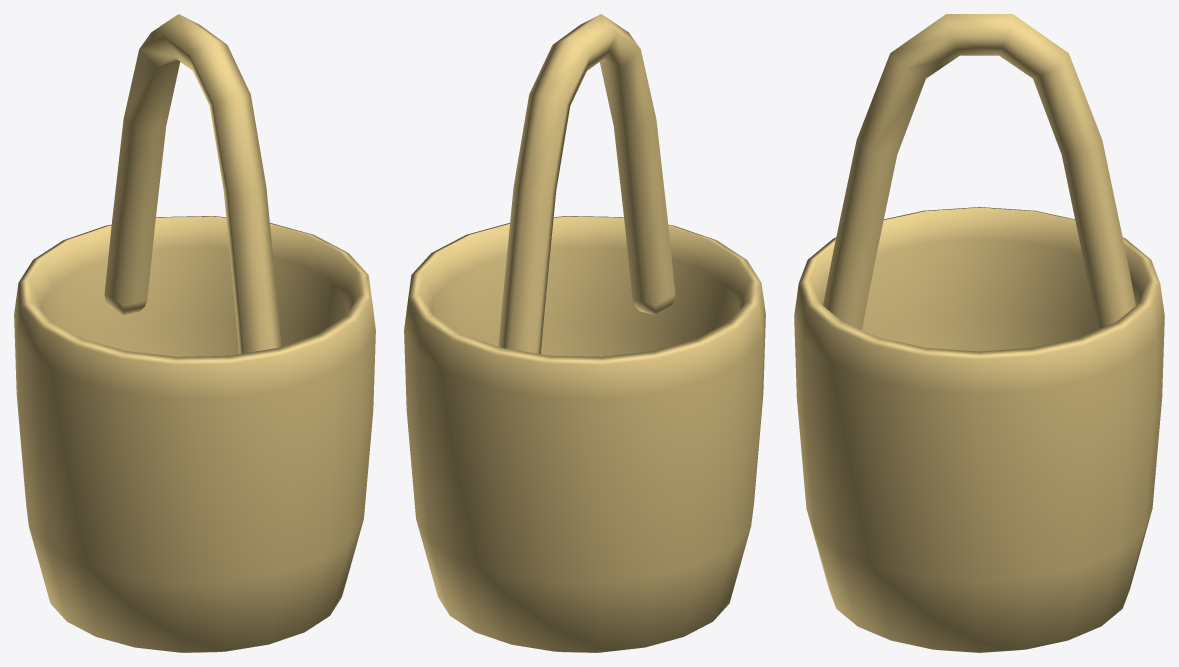
The model's file is basket_bag.glb.
3 renders of one model, left to right at view 1: azimuth 30°, elevation 25°; view 2: azimuth 150°, elevation 25°; view 3: azimuth 270°, elevation 25°, orthographic.
Visible parts, largest first — view 1: basket_bag_ArmR; view 2: basket_bag_ArmR; view 3: basket_bag_ArmR.
Boxes of the visible parts, bbox=[...] form: basket_bag_ArmR: bbox=[14, 14, 375, 652]; basket_bag_ArmR: bbox=[404, 14, 765, 652]; basket_bag_ArmR: bbox=[794, 14, 1164, 652].
Bounding box in the file's own units: 0.16 × 0.2835 × 0.16.
